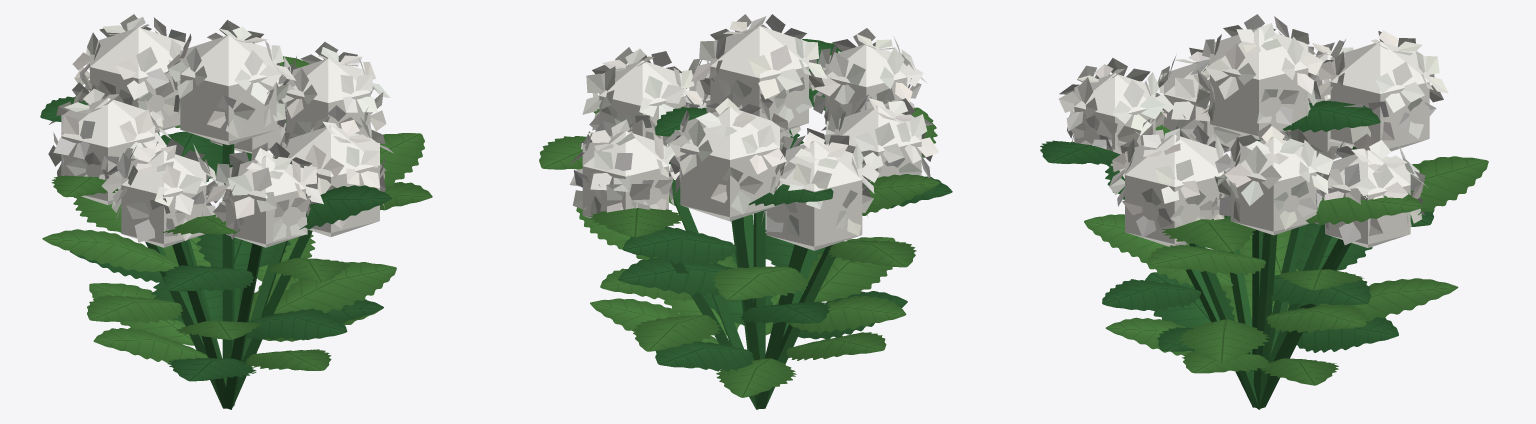
Rendered from HydrangeaBush.glb.
3 views of the same model, side by side, from view 1: azimuth 30°, elevation 25°; view 2: azimuth 150°, elevation 25°; view 3: azimuth 270°, elevation 25° (orthographic). The views are drawn at different scales.
Visible parts, largest first — view 1: HydrangeaBush_Bloom, HydrangeaBush_Fern, HydrangeaBush_Deep; view 2: HydrangeaBush_Bloom, HydrangeaBush_Fern, HydrangeaBush_Deep; view 3: HydrangeaBush_Bloom, HydrangeaBush_Fern, HydrangeaBush_Deep.
Part boxes in pixels (<box>): HydrangeaBush_Bloom: <box>48,14,394,247</box>; HydrangeaBush_Fern: <box>40,56,432,381</box>; HydrangeaBush_Deep: <box>145,132,312,409</box>; HydrangeaBush_Bloom: <box>569,14,938,250</box>; HydrangeaBush_Fern: <box>539,39,952,397</box>; HydrangeaBush_Deep: <box>669,162,835,409</box>; HydrangeaBush_Bloom: <box>1059,14,1448,247</box>; HydrangeaBush_Fern: <box>1040,100,1488,385</box>; HydrangeaBush_Deep: <box>1185,139,1356,409</box>.
Size of the model in its own units: 4.03 by 3.66 by 4.52.
3 materials, 1 textured.
